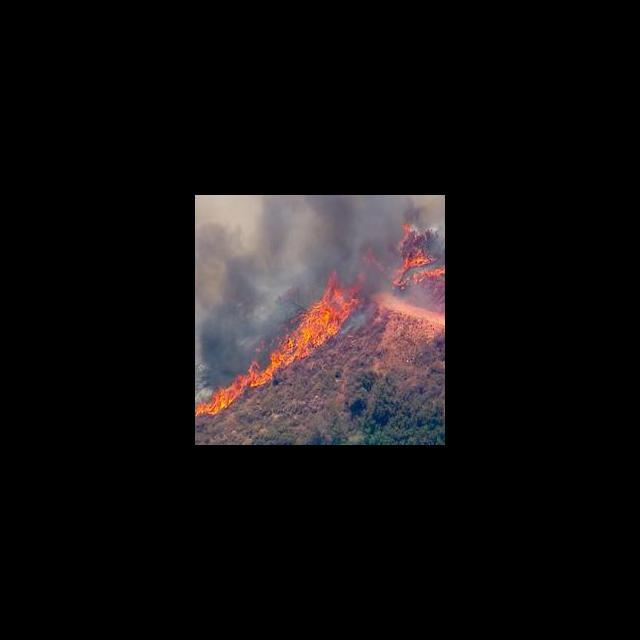Fire: (196, 283, 351, 421)
Smoke: (196, 195, 397, 278)
